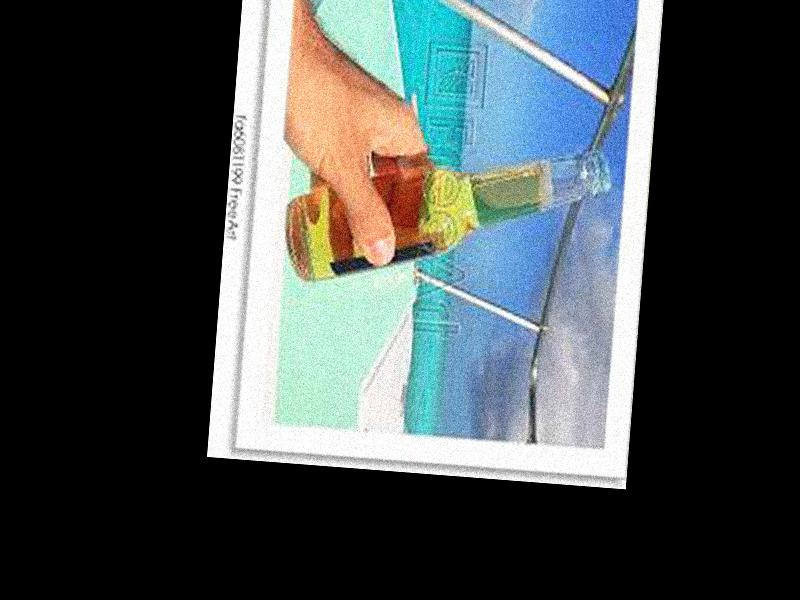Beer: (285, 118, 611, 306)
